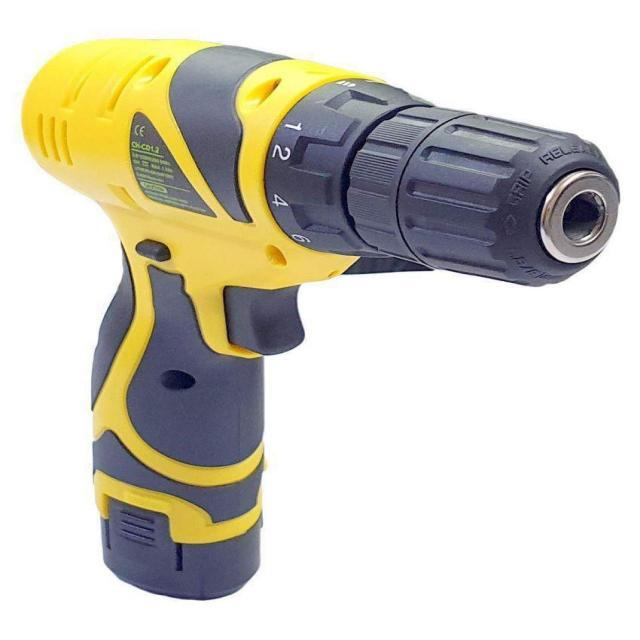drill: (20, 38, 622, 602)
